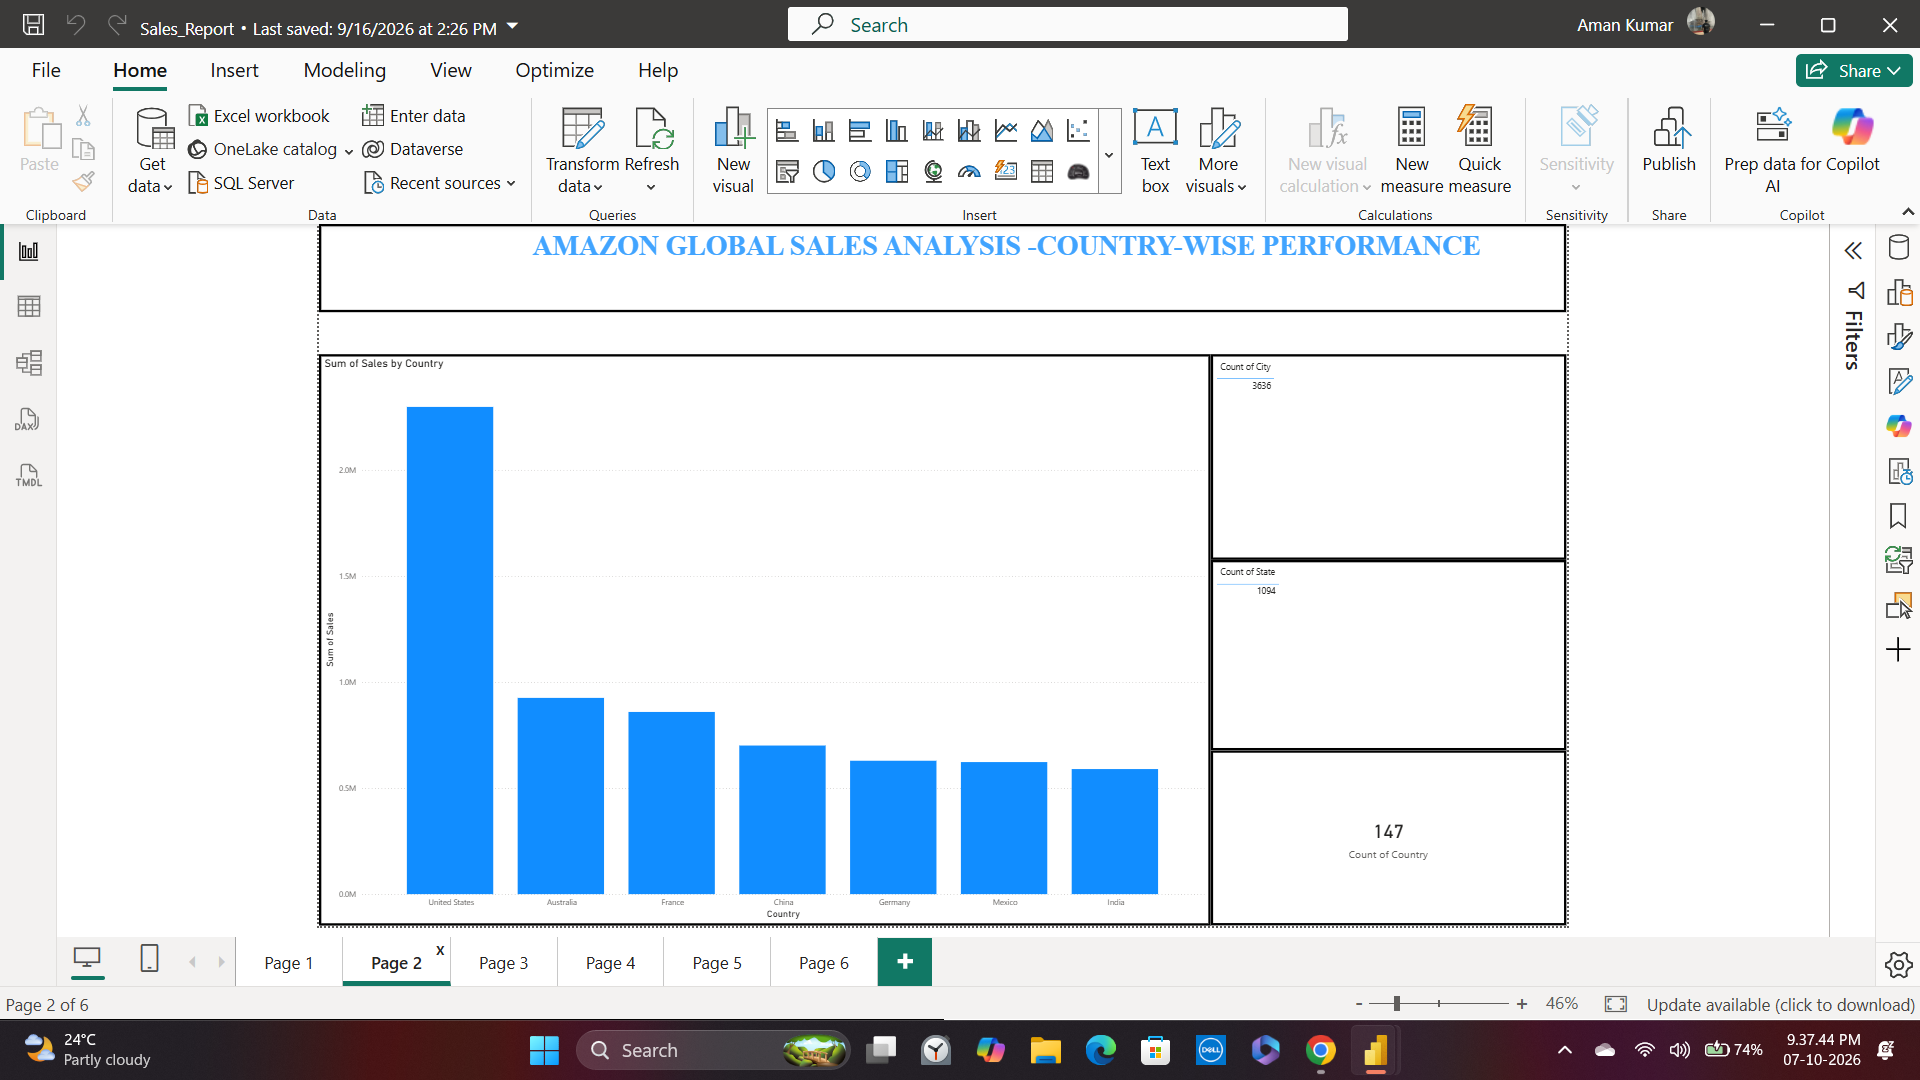

Layout of this report page (visuals, bound fields, positions):
{"tool":"powerbi","page":{"name":"Page 2","canvas":[1920,1080],"ordinal":1},"visuals":[{"type":"columnChart","fields":{"Category":["Orders.Country"],"Y":["Sum(Orders.Sales)"]},"box":[0,200.4,1372.4,879],"z":0},{"type":"card","title":"count of country","fields":{"Values":["Count(Orders.Country)"]},"box":[1372.4,810.1,547.2,269.3],"z":1000},{"type":"tableEx","fields":{"Values":["Orders.State"]},"box":[1372.4,517.1,547.2,293],"z":2000},{"type":"tableEx","fields":{"Values":["Orders.City"]},"box":[1372.4,200.4,547.2,316.7],"z":3000},{"type":"textbox","box":[0,0,1919.6,135.7],"z":4000}]}

Visuals, with their boxes on the page's 1920x1080 design canvas (x1, y1, x2, y2). These are canvas units, not pixel positions in the 1920x1080 screenshot, which may show the page scaled, cropped or inside an application window:
columnChart - Orders.Country x Sum(Orders.Sales): (x1=0, y1=200, x2=1372, y2=1079)
"count of country" card: (x1=1372, y1=810, x2=1920, y2=1079)
tableEx - Orders.State: (x1=1372, y1=517, x2=1920, y2=810)
tableEx - Orders.City: (x1=1372, y1=200, x2=1920, y2=517)
textbox: (x1=0, y1=0, x2=1920, y2=136)
